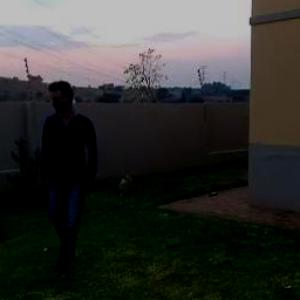follow: (49, 75, 102, 260)
